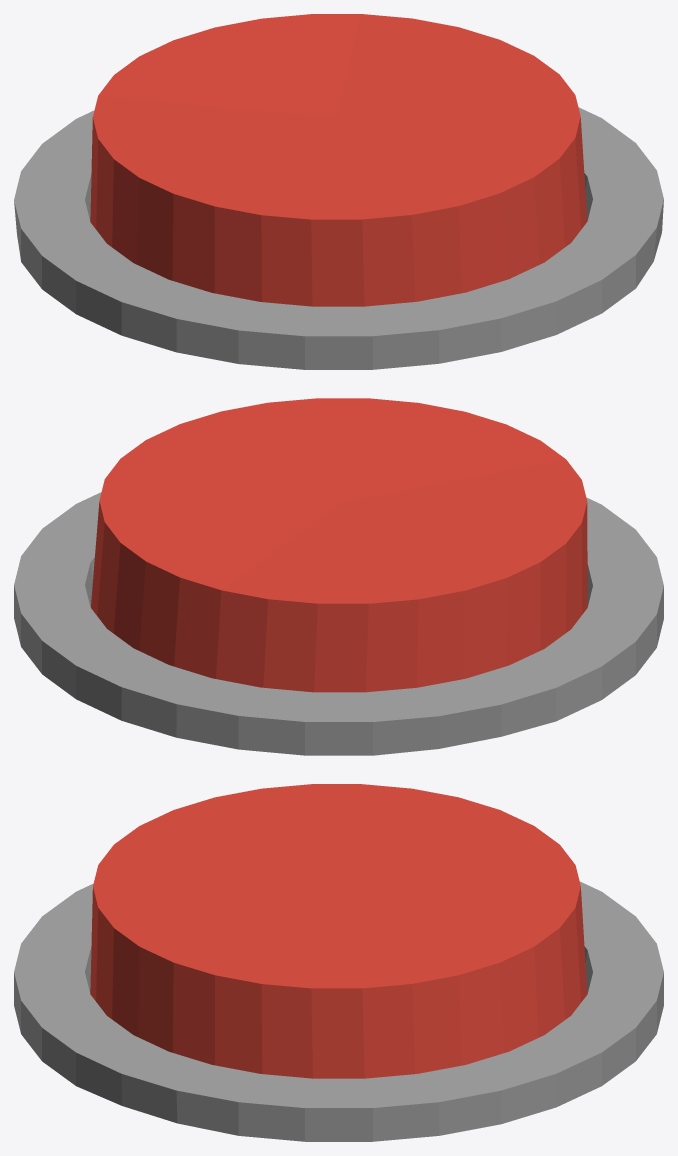
Rendered from buttonred.fbx.
3 renders of one model, top to bottom at view 1: azimuth 30°, elevation 25°; view 2: azimuth 150°, elevation 25°; view 3: azimuth 270°, elevation 25°, orthographic.
Visible parts, largest first — view 1: Button, Fixture.001; view 2: Button, Fixture.001; view 3: Button, Fixture.001.
Boxes of the visible parts, <box> form: Button: <box>90,14,587,306</box>; Fixture.001: <box>14,107,663,369</box>; Button: <box>91,398,587,692</box>; Fixture.001: <box>14,492,663,755</box>; Button: <box>90,784,587,1078</box>; Fixture.001: <box>14,881,663,1141</box>.
Bounding box in the file's own units: 16.56 × 3.37 × 16.65.
